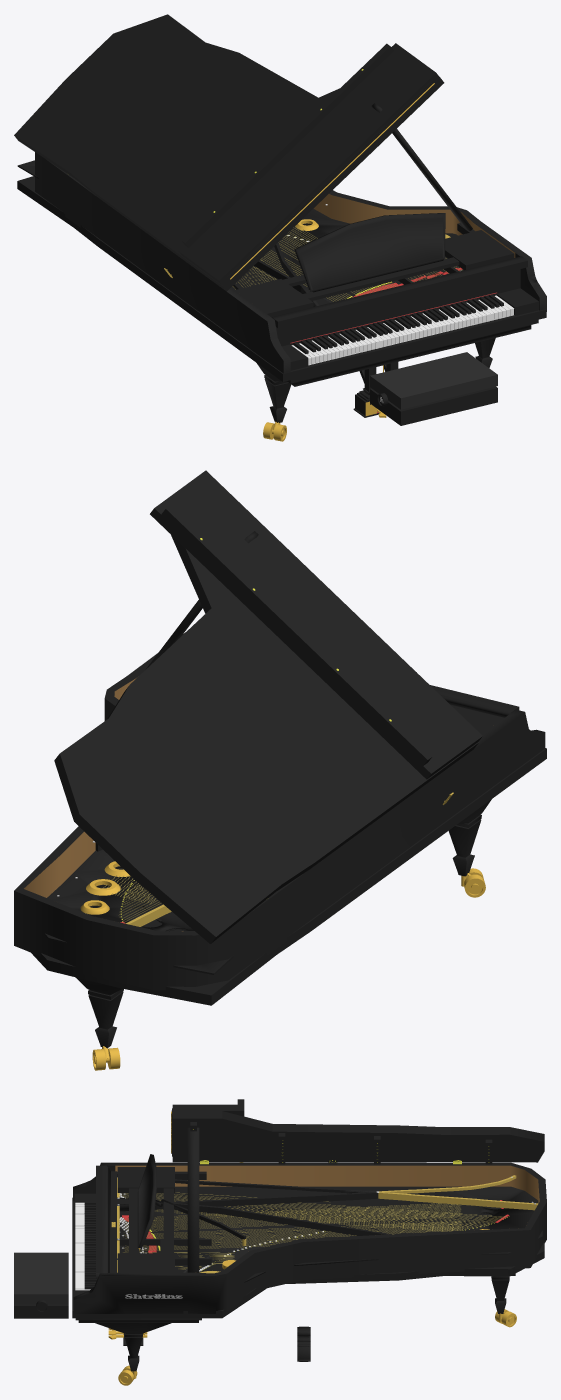
Rendered from grand-piano.glb.
The picture shows the model from 3 angles, top to bottom: view 1: azimuth 30°, elevation 25°; view 2: azimuth 150°, elevation 25°; view 3: azimuth 270°, elevation 25°; orthographic projection. The views are drawn at different scales.
Visible parts, largest first — view 1: piano_cor, pasted__espuma_banco, pasted__teclas, madeira_interna, pasted__cordas, pasted__rodas; view 2: piano_cor, madeira_interna, pasted__rodas, pasted__pasted__rodas, pasted__cordas; view 3: piano_cor, pasted__cordas, madeira_interna, pasted__espuma_banco, pasted__metal_dourado, pasted__teclas, pasted__rodas, isolante_preto.
Part boxes in pixels (x1,y1,x2,y2): piano_cor: (14,14,546,425); pasted__espuma_banco: (370,352,497,409); pasted__teclas: (291,295,514,365); madeira_interna: (313,194,515,257); pasted__cordas: (232,226,462,301); pasted__rodas: (230,83,434,441); piano_cor: (14,470,546,1048); madeira_interna: (24,678,183,931); pasted__rodas: (92,868,485,1070); pasted__pasted__rodas: (80,861,129,914); pasted__cordas: (85,869,161,922); piano_cor: (14,1099,546,1371); pasted__cordas: (121,1192,505,1269); madeira_interna: (115,1165,539,1203); pasted__espuma_banco: (14,1252,68,1304); pasted__metal_dourado: (117,1175,538,1273); pasted__teclas: (75,1202,90,1290); pasted__rodas: (108,1111,516,1385); isolante_preto: (183,1204,460,1272).
Bounding box in the file's own units: 2.19 × 2.23 × 4.
